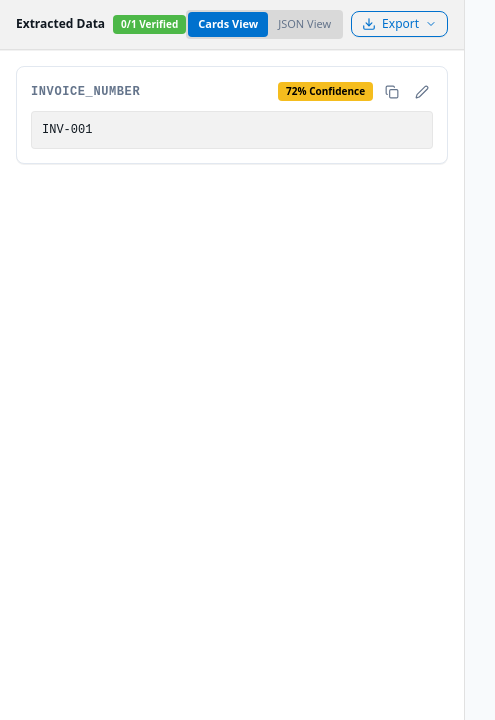
it: Pane2ExtractedData export error handling [BLK-253] › falls back to client-side CSV export when API fails
The width and height of the screenshot is (495, 720).
Check: the text "INV-001" is shown, box [31, 110, 433, 148]
Click the button "Export": (400,24) [351, 11, 448, 37]
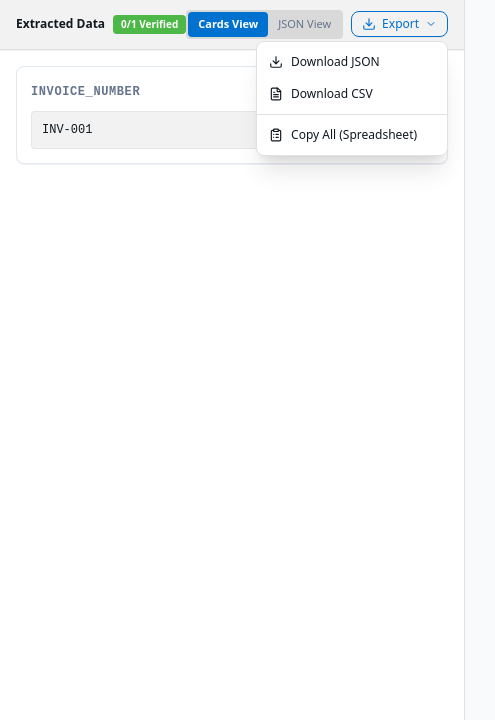
Click the button "Download CSV": (352,94) [257, 78, 447, 110]
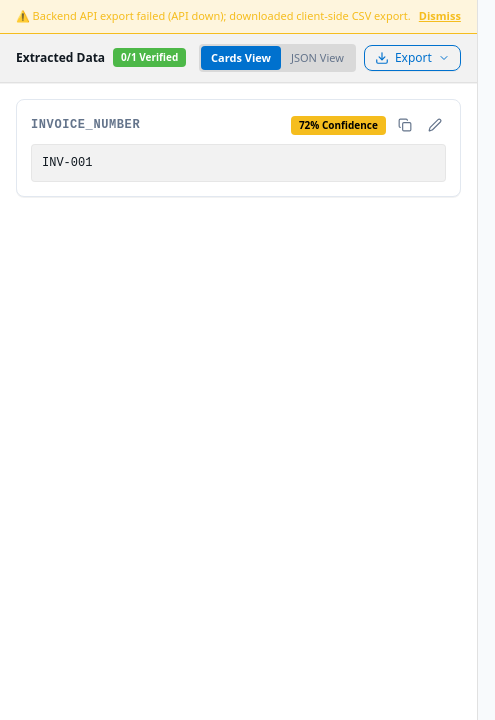
Check: the text "Backend API export failed" is shown, box [33, 8, 411, 23]
